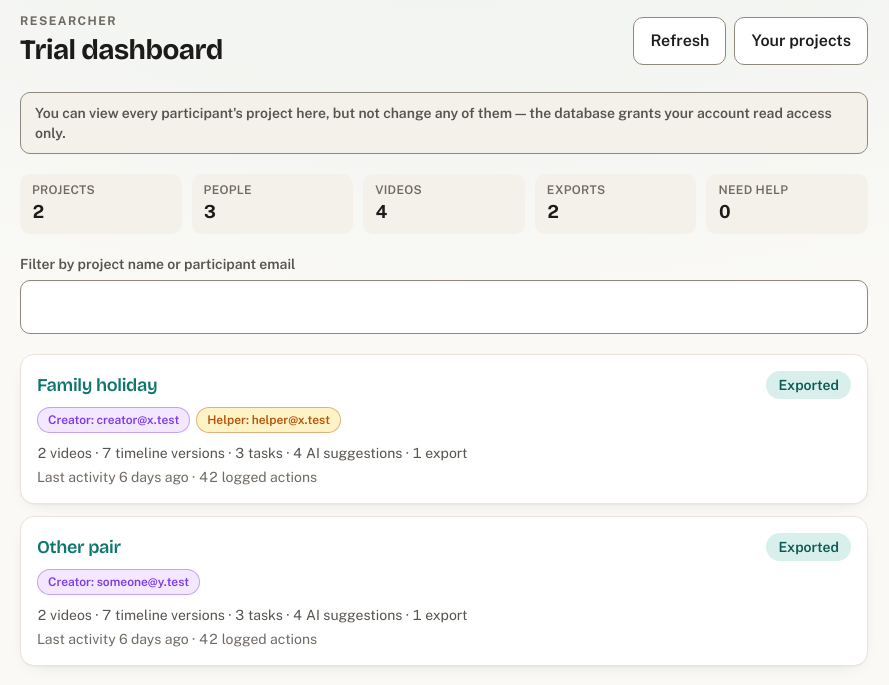
Test: AdminPage › filters by participant email
The image size is (889, 685).
Check: the link "Family holiday" is shown, box [37,374,157,396]
Type "someone@" into the search field labelled "Filter by project name or participant email" at (444,307), box [20,280,868,334]
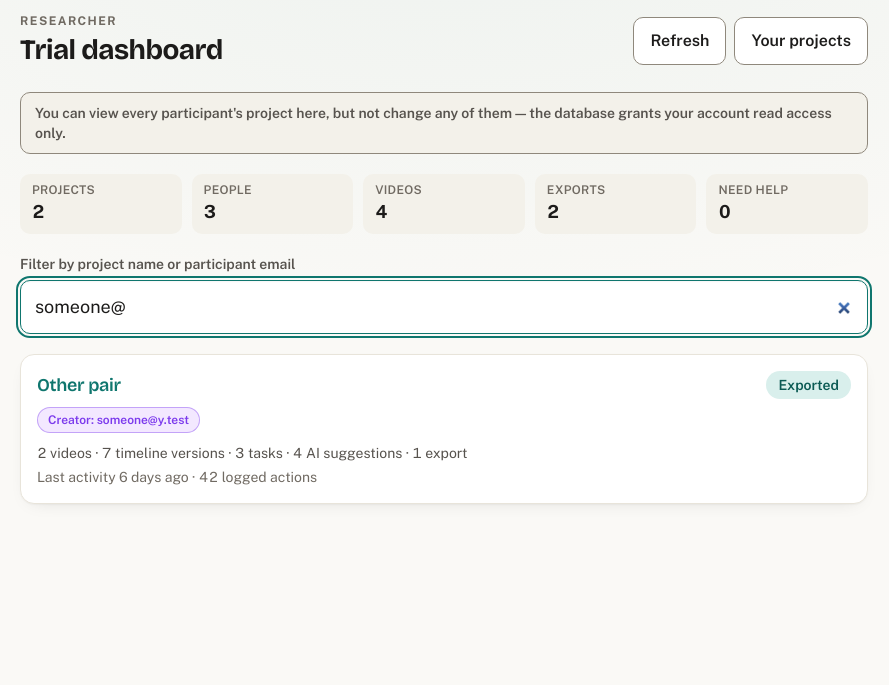
Check: the link "Other pair" is shown, box [37,374,121,396]
Check: the link "Family holiday" is gone
